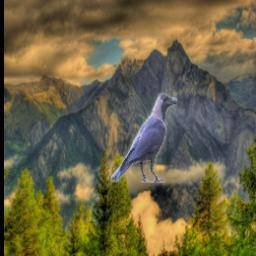Crow: (110, 93, 177, 183)
